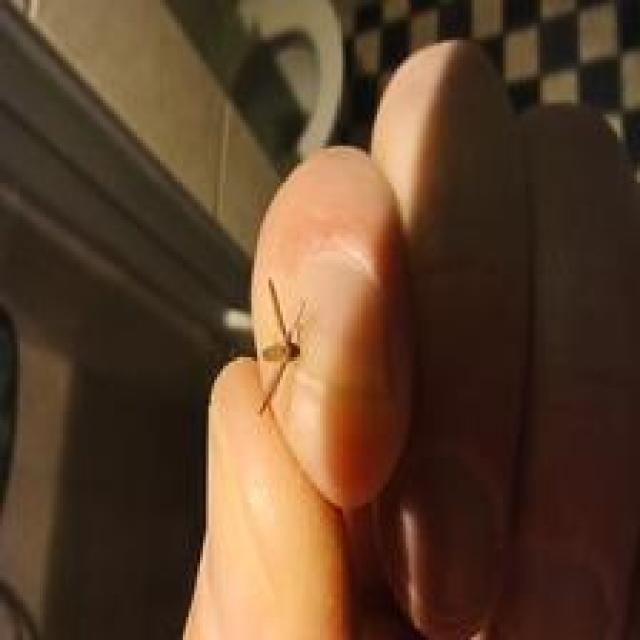Culex: (254, 276, 309, 416)
